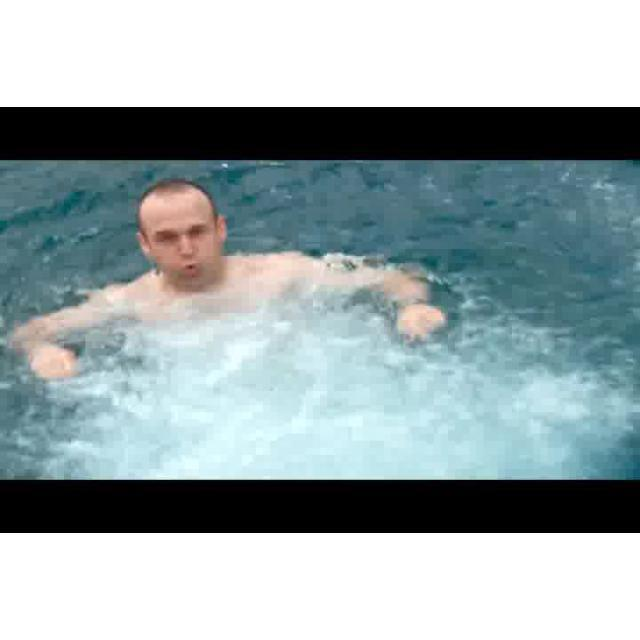human: (1, 174, 456, 389)
